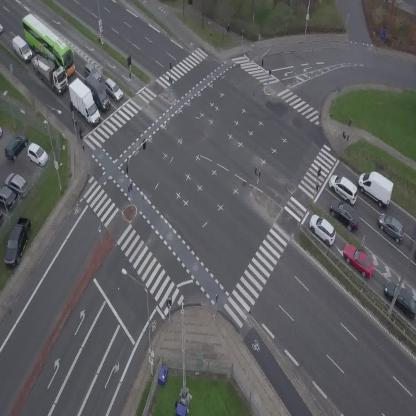bicycle: (223, 22, 232, 37), (78, 127, 84, 142)
bus: (12, 10, 84, 77)
car: (338, 238, 380, 282), (325, 195, 365, 234), (304, 210, 342, 248), (324, 170, 363, 206), (373, 209, 410, 244), (100, 76, 126, 104), (80, 60, 103, 85), (0, 23, 3, 32)
lorry: (20, 43, 76, 97), (352, 165, 400, 210), (64, 75, 103, 129), (82, 71, 113, 114), (7, 33, 36, 63)
